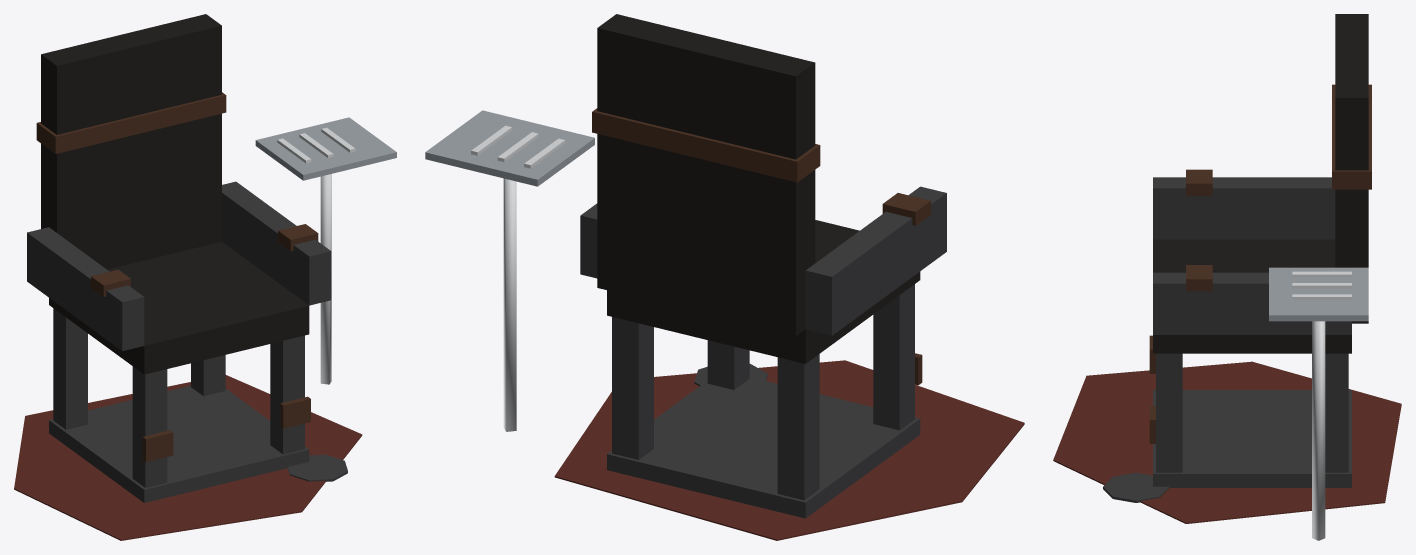
Rendered from feeding_chair.glb.
3 renders of one model, left to right at view 1: azimuth 30°, elevation 25°; view 2: azimuth 150°, elevation 25°; view 3: azimuth 270°, elevation 25°, orthographic. The views are drawn at different scales.
Parts seen in each view (by area): view 1: feeding_chair; view 2: feeding_chair; view 3: feeding_chair.
Boxes of the visible parts, x1=… form: feeding_chair: x1=14, y1=14, x2=396, y2=540; feeding_chair: x1=425, y1=14, x2=1024, y2=540; feeding_chair: x1=1053, y1=14, x2=1401, y2=540.
Bounding box in the file's own units: 1.42 × 1.3 × 1.05.
Materials: 1 (1 with a texture image).
